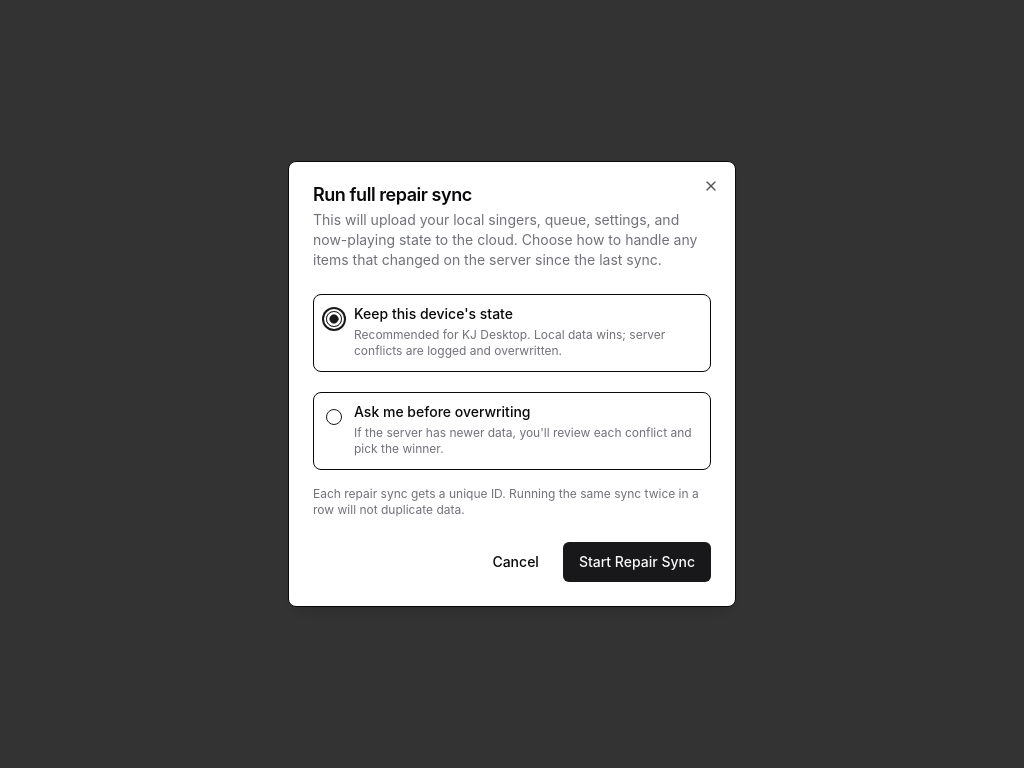
RepairSyncDialog › shows an error state when startRepairSync fails
The image size is (1024, 768).
Step 1. Click the button "Start Repair Sync" → (637, 562), box [563, 542, 711, 582]
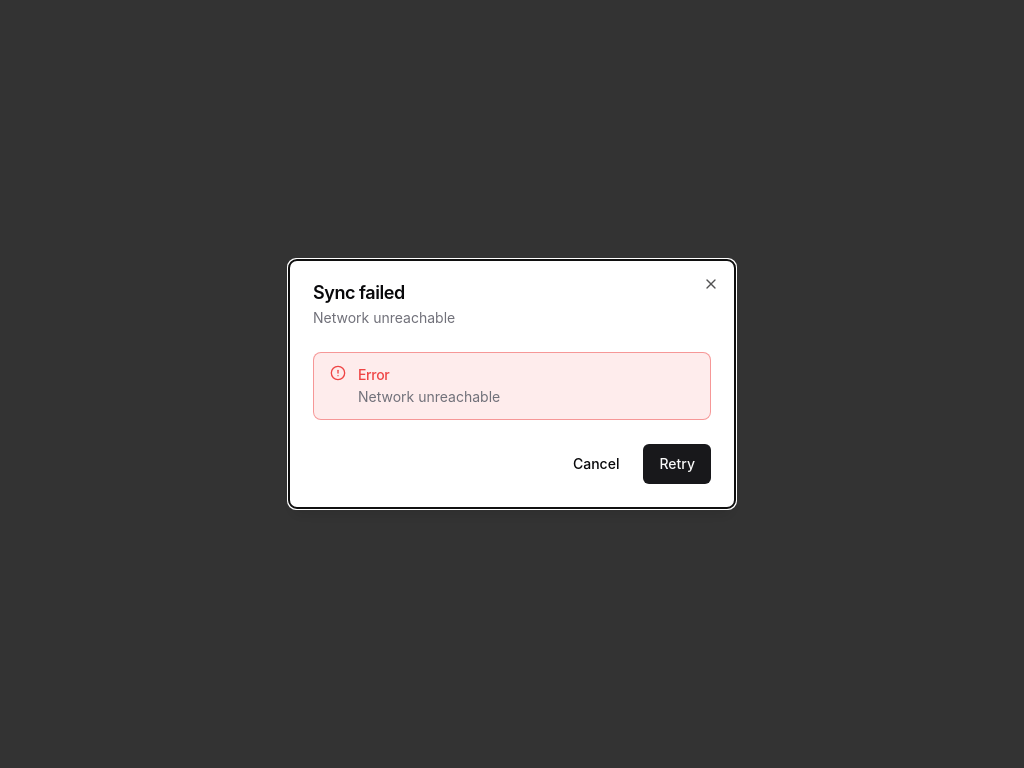
expect the text "Network unreachable" below "Sync failed" is shown: met, box [313, 309, 455, 326]
